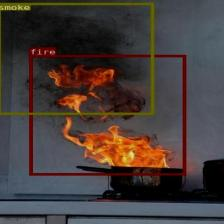fire: (29, 55, 185, 174)
smoke: (0, 2, 153, 114)
